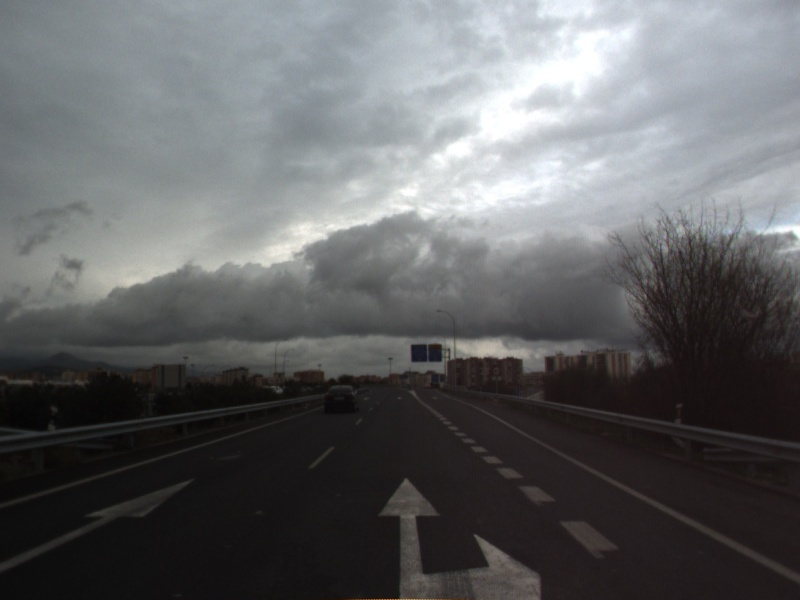STRAIGHT: (1, 475, 198, 571)
STRAIGHT_RIGHT: (374, 474, 545, 600)
